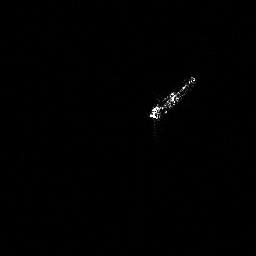ship: (147, 76, 199, 120)
